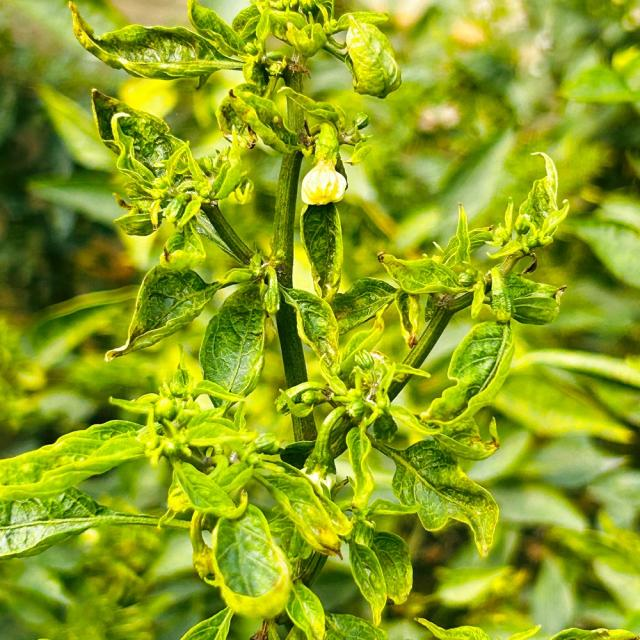Chilli_Leaf_Curl: (2, 0, 570, 638), (208, 501, 292, 619), (341, 12, 403, 99)
